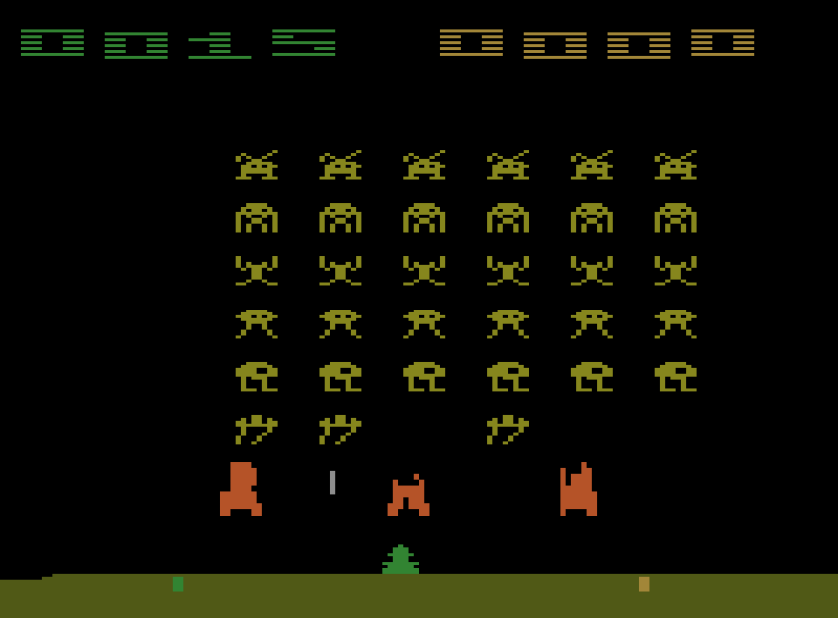bullet: (328, 468, 338, 497)
invader1: (652, 148, 698, 182), (485, 147, 530, 181), (569, 147, 614, 181), (235, 148, 279, 182), (402, 148, 447, 181), (319, 148, 363, 180)
invader2: (317, 200, 363, 235), (569, 200, 615, 235), (485, 201, 530, 235), (652, 201, 698, 234), (235, 201, 280, 234), (401, 202, 447, 234)
invader3: (317, 252, 364, 288), (401, 252, 447, 288), (569, 252, 615, 288), (484, 253, 531, 288), (653, 253, 698, 287), (234, 254, 280, 287)
invader4: (402, 306, 448, 341), (653, 307, 698, 342), (317, 307, 364, 340), (234, 307, 279, 341), (570, 308, 614, 341), (486, 307, 530, 339)
invader5: (570, 359, 615, 394), (233, 360, 279, 394), (317, 359, 363, 393), (401, 359, 447, 393), (484, 361, 530, 394), (652, 360, 698, 393)
invader6: (316, 411, 364, 446), (234, 412, 280, 448), (485, 412, 531, 447)
player: (380, 541, 421, 575)
